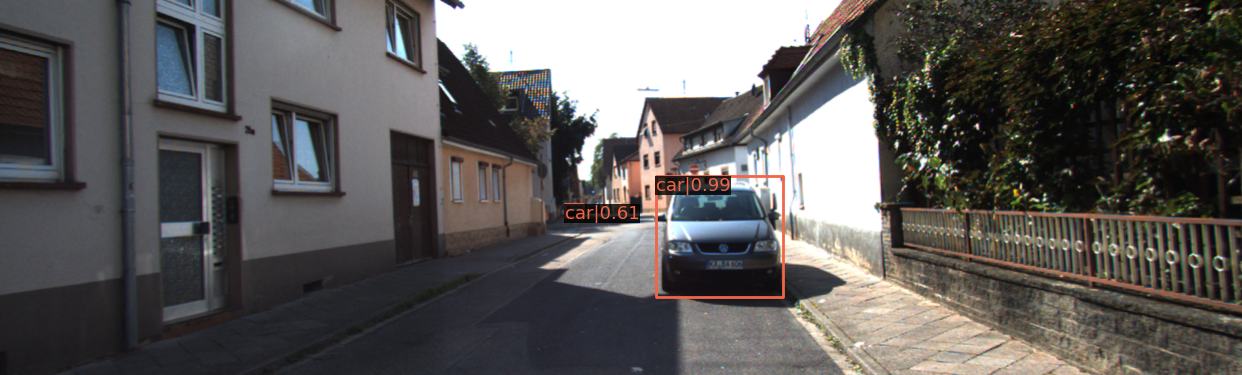car: (656, 182, 785, 298)
